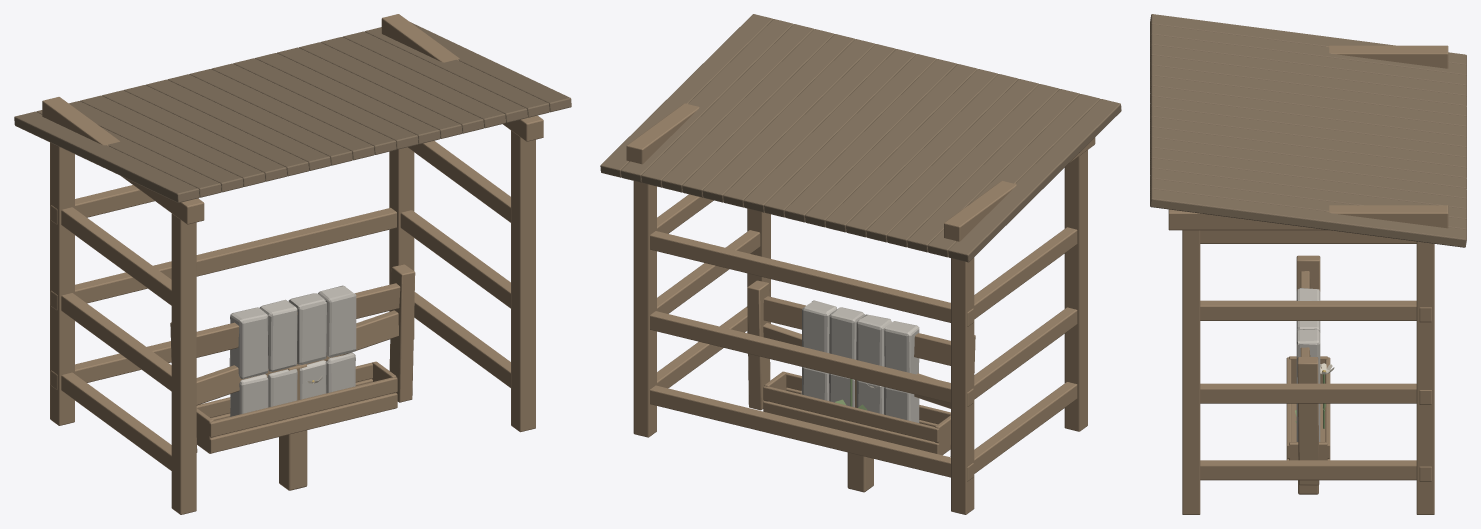
File: CottageYardKit.glb
3 renders of one model, left to right at view 1: azimuth 30°, elevation 25°; view 2: azimuth 150°, elevation 25°; view 3: azimuth 270°, elevation 25°, orthographic. The views are drawn at different scales.
Parts seen in each view (by area): view 1: TimberStore, StoneCourse, WindowPlanter, GardenFence, TimberBeam; view 2: TimberStore, StoneCourse, WindowPlanter, GardenFence, TimberBeam; view 3: TimberStore, GardenFence, WindowPlanter, StoneCourse.
Boxes of the visible parts, box(x1,y1,x2,y2) form: TimberStore: box(14, 14, 571, 514); StoneCourse: box(229, 285, 356, 416); WindowPlanter: box(196, 361, 397, 453); GardenFence: box(170, 264, 415, 452); TimberBeam: box(279, 364, 307, 490); TimberStore: box(600, 14, 1121, 514); StoneCourse: box(801, 300, 919, 422); WindowPlanter: box(763, 371, 950, 455); GardenFence: box(747, 280, 975, 456); TimberBeam: box(847, 380, 873, 492); TimberStore: box(1150, 14, 1466, 514); GardenFence: box(1296, 255, 1320, 485); WindowPlanter: box(1286, 356, 1330, 460); StoneCourse: box(1296, 288, 1320, 441).
Bounding box in the file's own units: 3.37 × 3.26 × 2.43.
